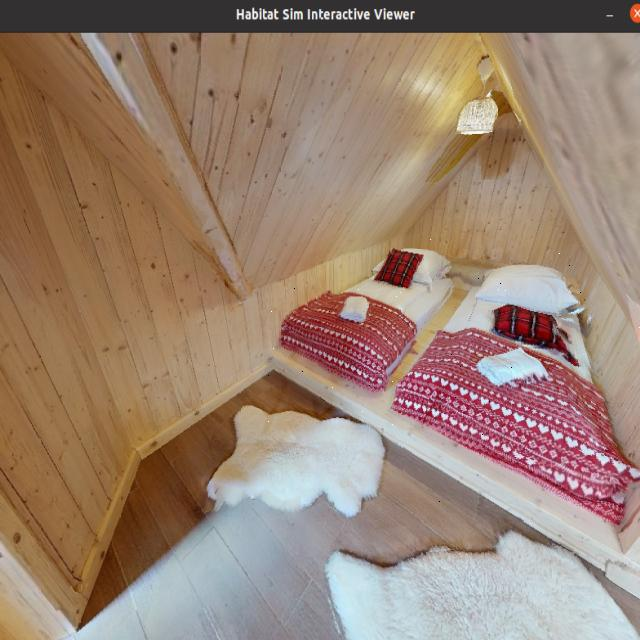bed: (403, 249, 640, 522), (265, 208, 454, 434)
